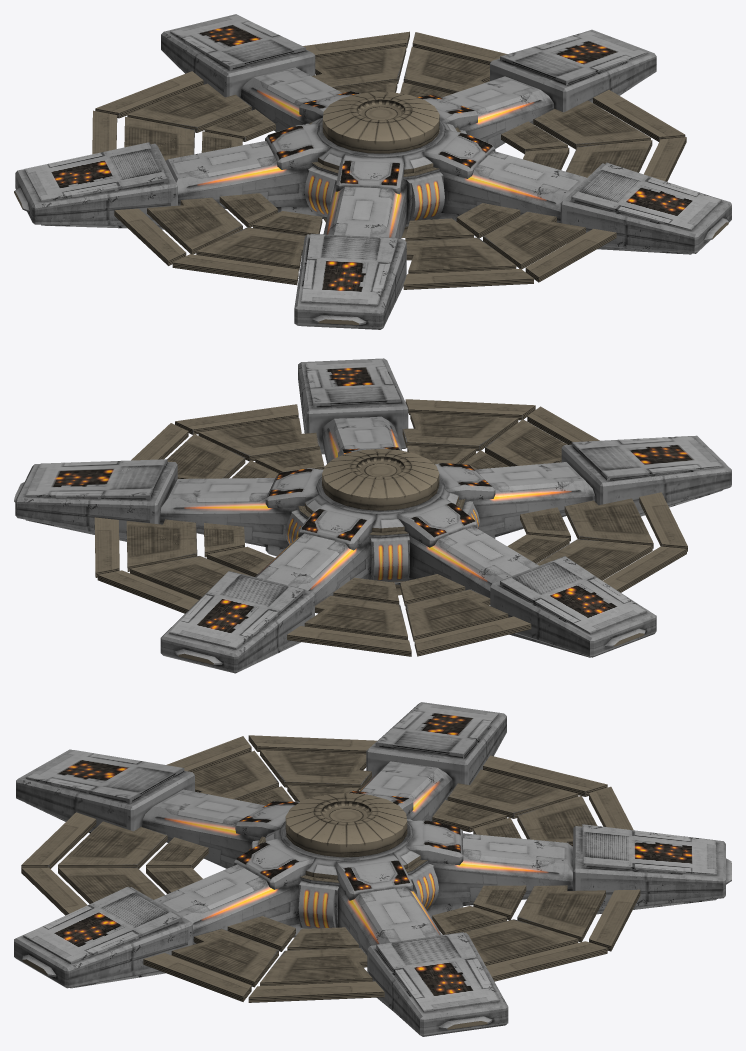
Rendered from 27644_lite.glb.
3 views of the same model, one above another, from view 1: azimuth 30°, elevation 25°; view 2: azimuth 150°, elevation 25°; view 3: azimuth 270°, elevation 25° (orthographic). The views are drawn at different scales.
Parts seen in each view (by area): view 1: ship; view 2: ship; view 3: ship.
Boxes of the visible parts, box(x1,y1,x2,y2) form: ship: box(14, 14, 731, 329); ship: box(14, 358, 731, 673); ship: box(14, 702, 731, 1036).
Size of the model in its own units: 1.18 by 0.2023 by 1.13.
Materials: 1 (1 with a texture image).
